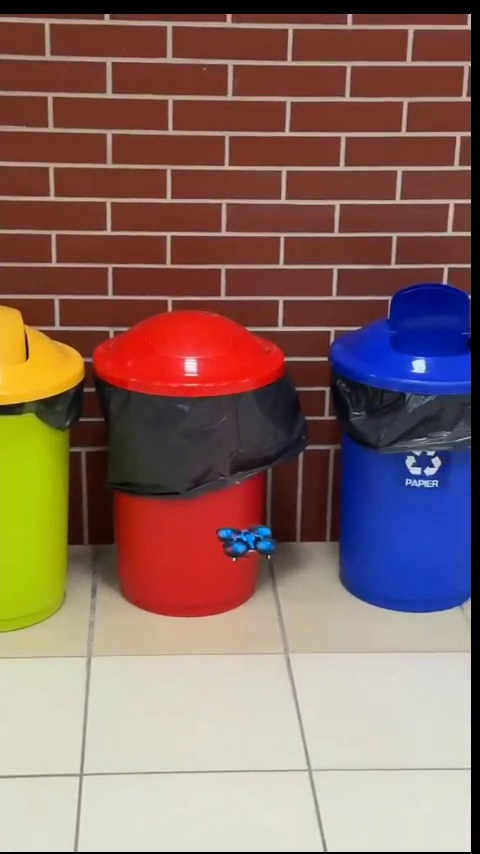drone: (217, 524, 275, 562)
